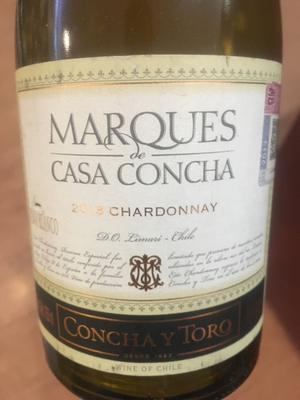marques de casa concha chardonnay: (12, 16, 294, 400)
